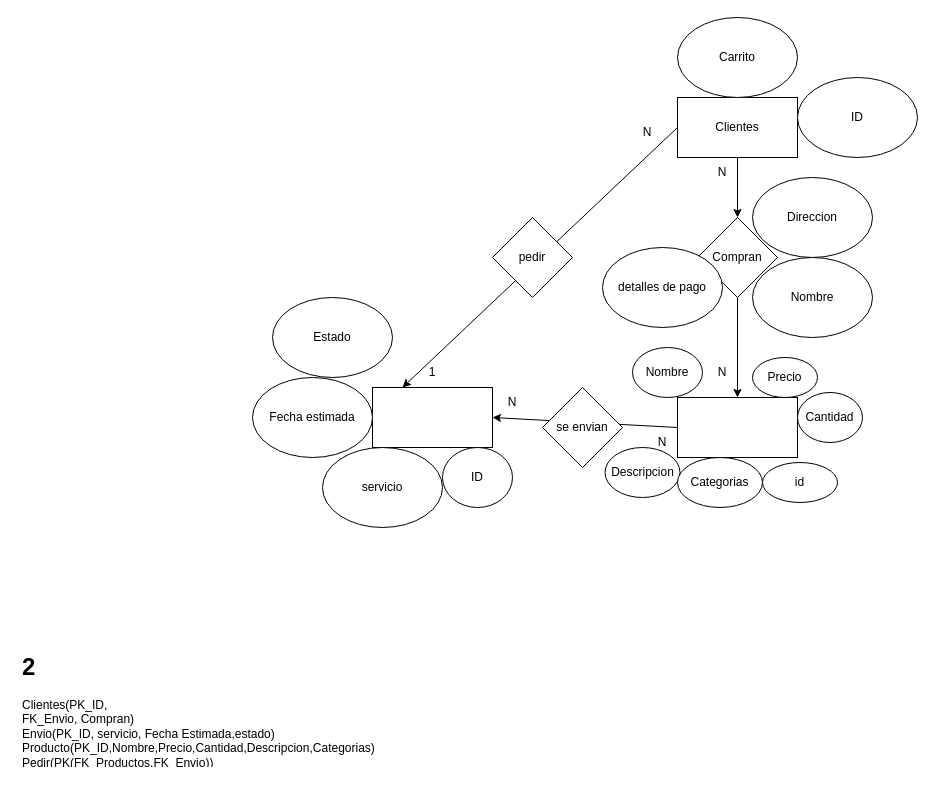
The diagram is 935 pixels wide and 786 high, and some of its shapes have lost their labels. The shapes that lost their labels are listed below. From the top down, each one's box as (x1, y1, x2, y2) in pixels, then its label:
(372, 386, 492, 448): envio
(676, 396, 798, 458): Productos
